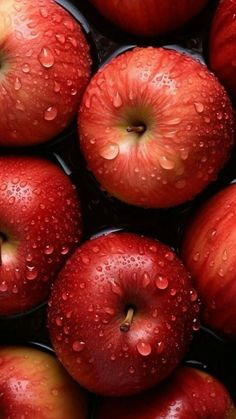Apple: (81, 43, 222, 209), (53, 233, 192, 393), (1, 1, 91, 142), (1, 159, 74, 316)
